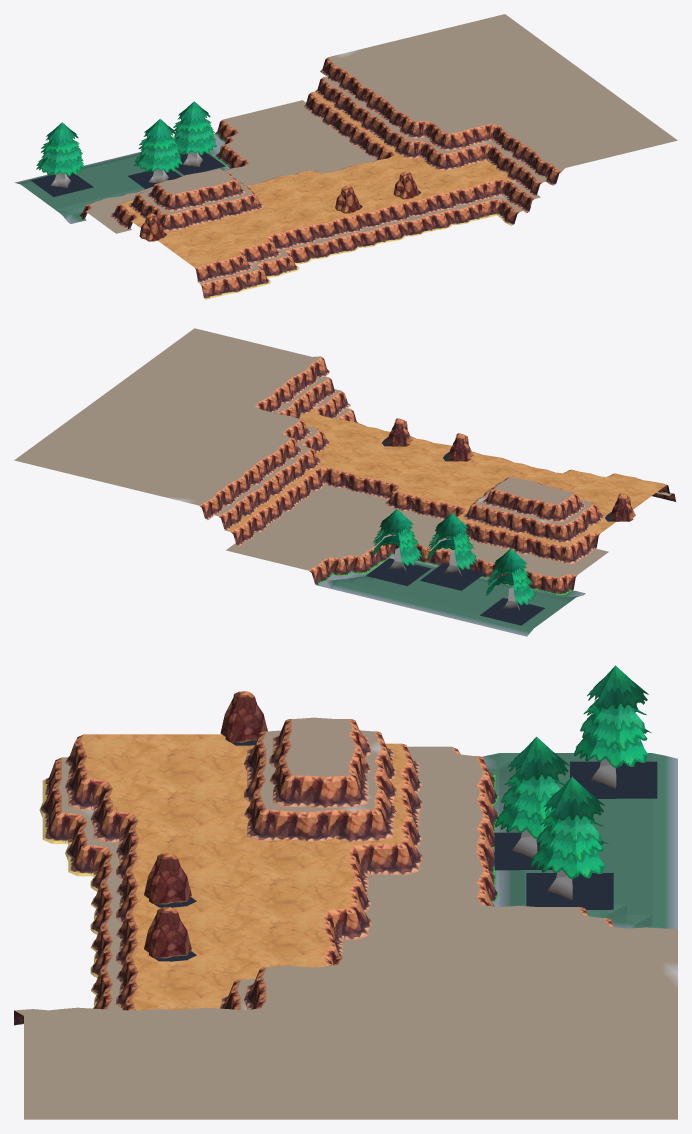
3 renders of one model, top to bottom at view 1: azimuth 30°, elevation 25°; view 2: azimuth 150°, elevation 25°; view 3: azimuth 270°, elevation 25°, orthographic. The views are drawn at different scales.
Visible parts, largest first — view 1: _1_0_node, _0_0_node, _5_0_node, _2_0_node, _4_0_node, _7_0_node, _6_0_node, _3_0_node; view 2: _1_0_node, _0_0_node, _5_0_node, _4_0_node, _2_0_node, _7_0_node, _6_0_node, _3_0_node; view 3: _1_0_node, _5_0_node, _0_0_node, _2_0_node, _4_0_node, _7_0_node, _6_0_node, _3_0_node.
Boxes of the visible parts, left/top/right/bottom form: _1_0_node: left=86, top=14, right=677, bottom=283; _0_0_node: left=78, top=57, right=561, bottom=299; _5_0_node: left=121, top=91, right=513, bottom=267; _2_0_node: left=36, top=101, right=216, bottom=176; _4_0_node: left=14, top=134, right=229, bottom=223; _7_0_node: left=30, top=152, right=420, bottom=236; _6_0_node: left=139, top=171, right=418, bottom=241; _3_0_node: left=51, top=151, right=202, bottom=188; _1_0_node: left=14, top=328, right=672, bottom=577; _0_0_node: left=199, top=356, right=675, bottom=595; _5_0_node: left=224, top=408, right=666, bottom=546; _4_0_node: left=315, top=555, right=585, bottom=636; _2_0_node: left=372, top=509, right=535, bottom=605; _7_0_node: left=366, top=437, right=613, bottom=625; _6_0_node: left=386, top=418, right=635, bottom=521; _3_0_node: left=388, top=547, right=519, bottom=610; _1_0_node: left=14, top=717, right=677, bottom=1119; _5_0_node: left=81, top=734, right=406, bottom=1010; _0_0_node: left=14, top=719, right=613, bottom=1025; _2_0_node: left=495, top=665, right=651, bottom=879; _4_0_node: left=482, top=753, right=677, bottom=928; _7_0_node: left=154, top=740, right=657, bottom=961; _6_0_node: left=144, top=691, right=267, bottom=958; _3_0_node: left=512, top=758, right=616, bottom=900.
Size of the model in its own units: 756 by 468 by 95.58.
